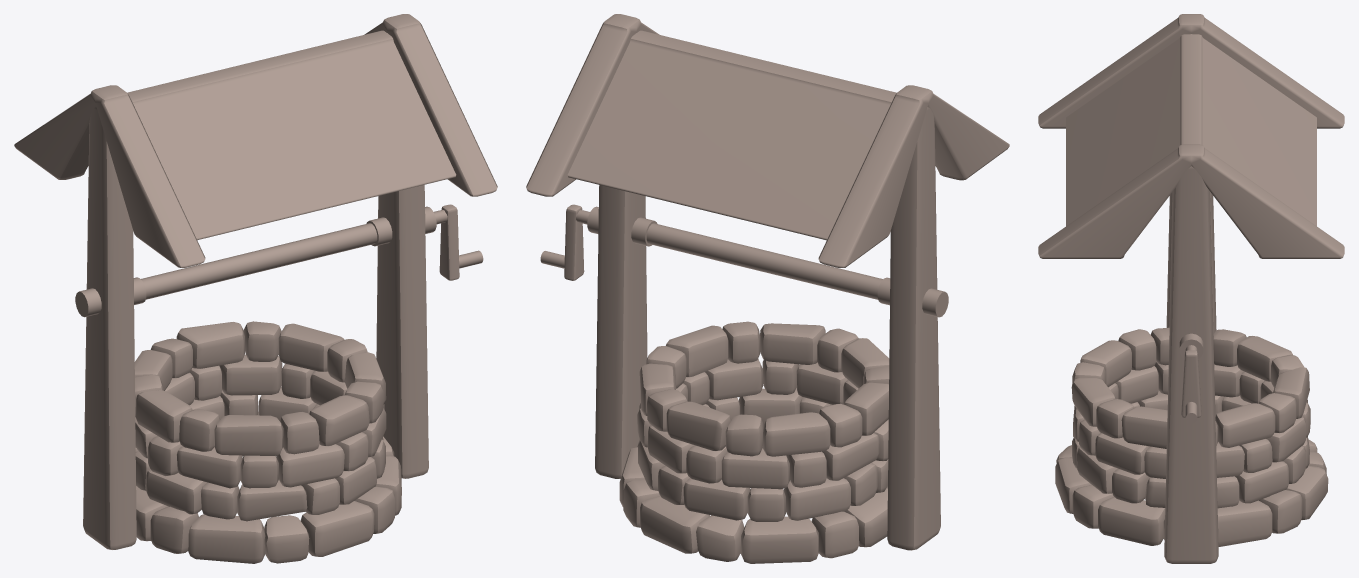
Rendered from SM_WaterWell.fbx.
3 views of the same model, side by side, from view 1: azimuth 30°, elevation 25°; view 2: azimuth 150°, elevation 25°; view 3: azimuth 270°, elevation 25° (orthographic). The views are drawn at different scales.
Parts seen in each view (by area): view 1: SM_WaterWell; view 2: SM_WaterWell; view 3: SM_WaterWell.
Boxes of the visible parts, x1,y1,x2,y2 form: SM_WaterWell: (14,14,497,563); SM_WaterWell: (526,14,1009,563); SM_WaterWell: (1038,14,1344,563).
Size of the model in its own units: 298 by 321 by 217.
